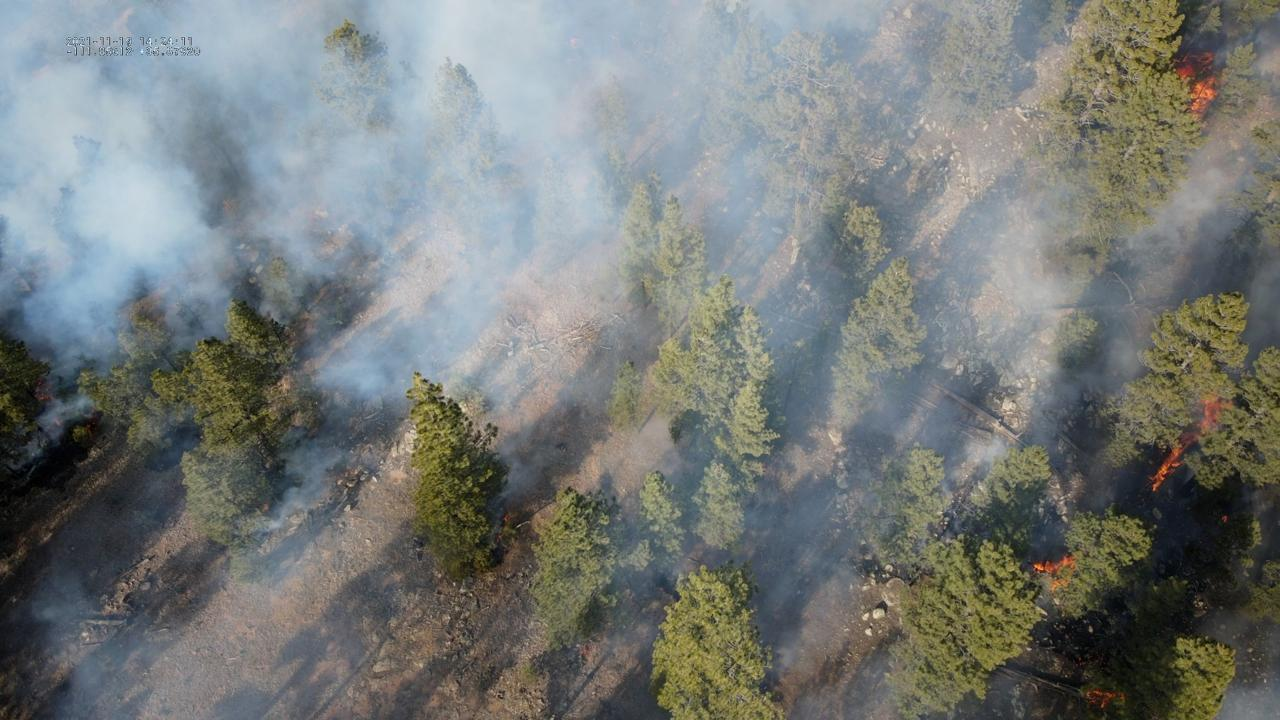fire: (1170, 52, 1222, 125), (1029, 555, 1082, 598), (1194, 388, 1235, 441), (1144, 442, 1184, 495)
smoke: (0, 0, 1280, 673), (38, 443, 387, 720), (1215, 682, 1280, 720)
